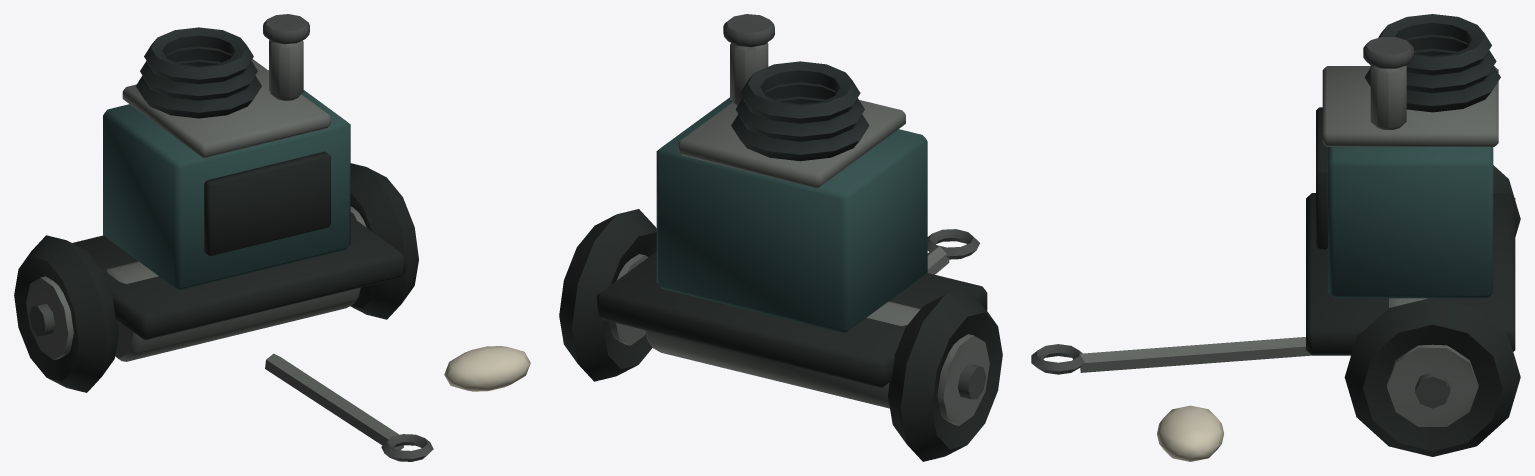
Rendered from compressor_cart_a.glb.
The picture shows the model from 3 angles, left to right: view 1: azimuth 30°, elevation 25°; view 2: azimuth 150°, elevation 25°; view 3: azimuth 270°, elevation 25°; orthographic projection. The views are drawn at different scales.
Parts seen in each view (by area): view 1: Surface; view 2: Surface; view 3: Surface.
Boxes of the visible parts, x1,y1,x2,y2 form: Surface: [14, 14, 530, 461]; Surface: [559, 14, 1002, 461]; Surface: [1031, 14, 1520, 461].
Size of the model in its own units: 3.21 by 2.69 by 3.34.
